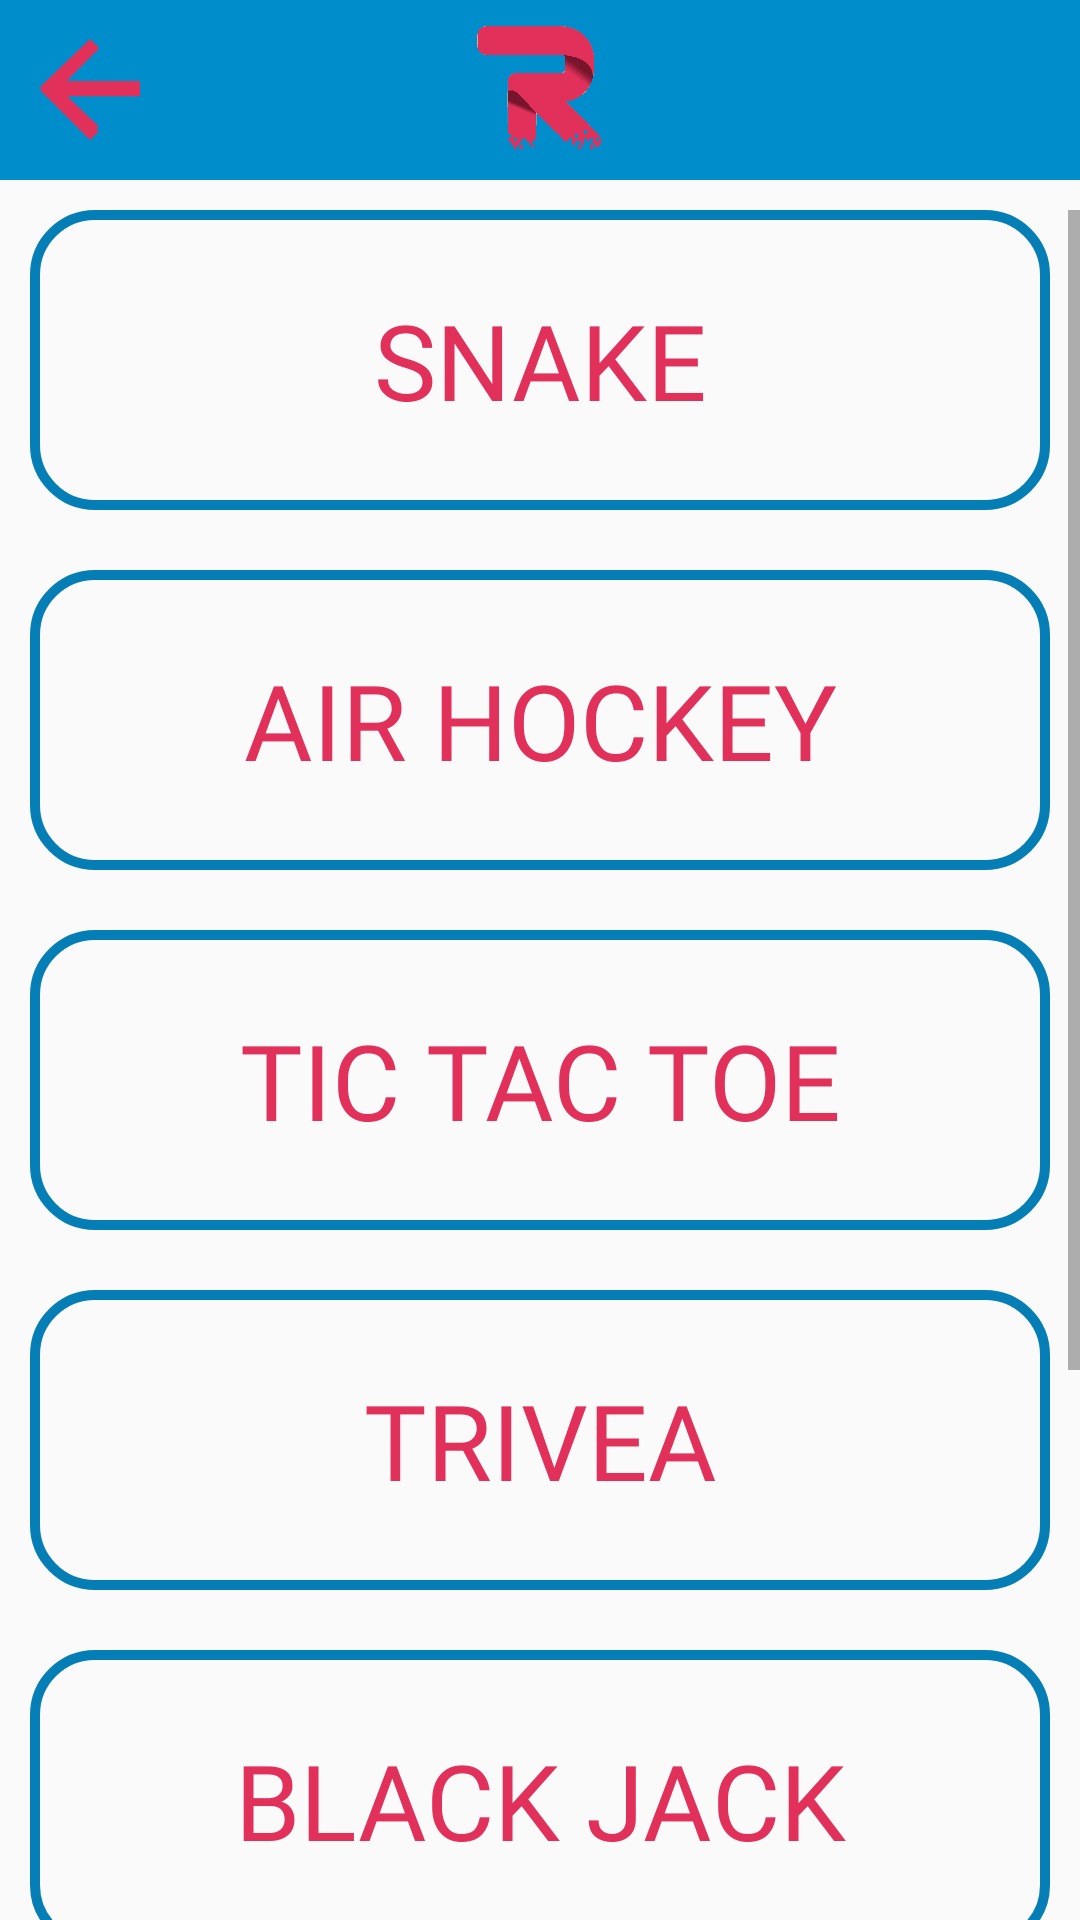

Icon click points for this 1080x1920 phone screenshot, format (x,y):
backbutton: (90,89)
